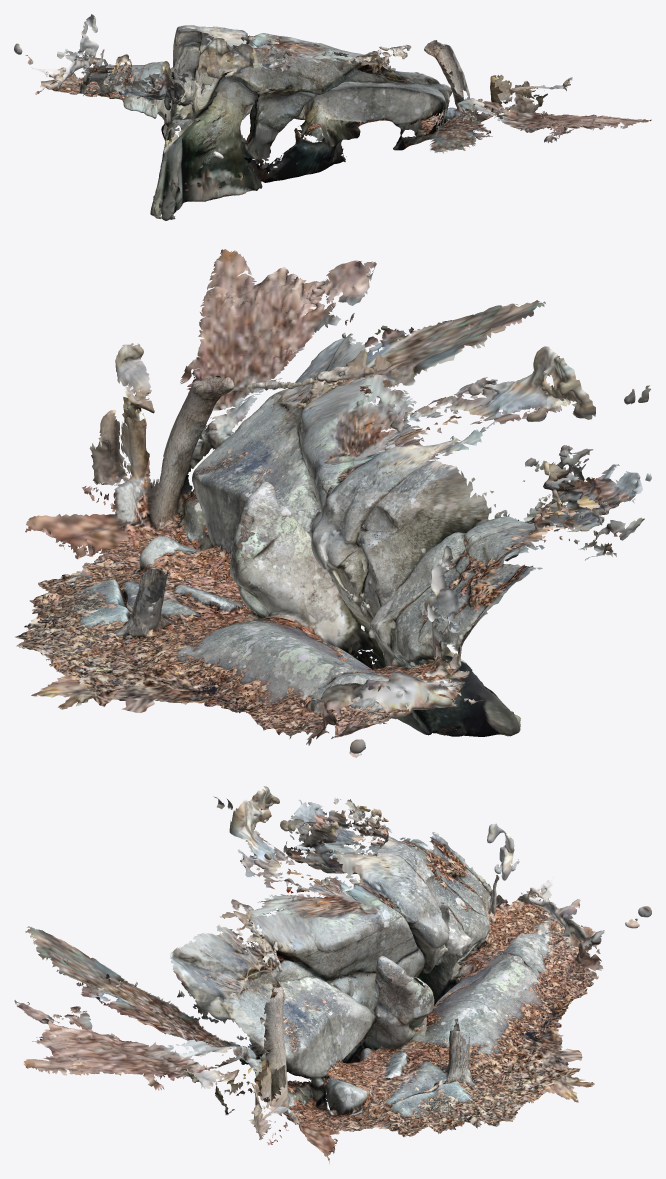
File: abound_20261119-1421.glb
The picture shows the model from 3 angles, top to bottom: view 1: azimuth 30°, elevation 25°; view 2: azimuth 150°, elevation 25°; view 3: azimuth 270°, elevation 25°; orthographic projection. The views are drawn at different scales.
Visible parts, largest first — view 1: Scene; view 2: Scene; view 3: Scene.
Boxes of the visible parts, box(x1,y1,x2,y2) form: Scene: box(14, 14, 651, 220); Scene: box(15, 249, 651, 757); Scene: box(14, 786, 651, 1163).
Size of the model in its own units: 7.76 by 3.74 by 8.92.
2 materials, 2 textured.
